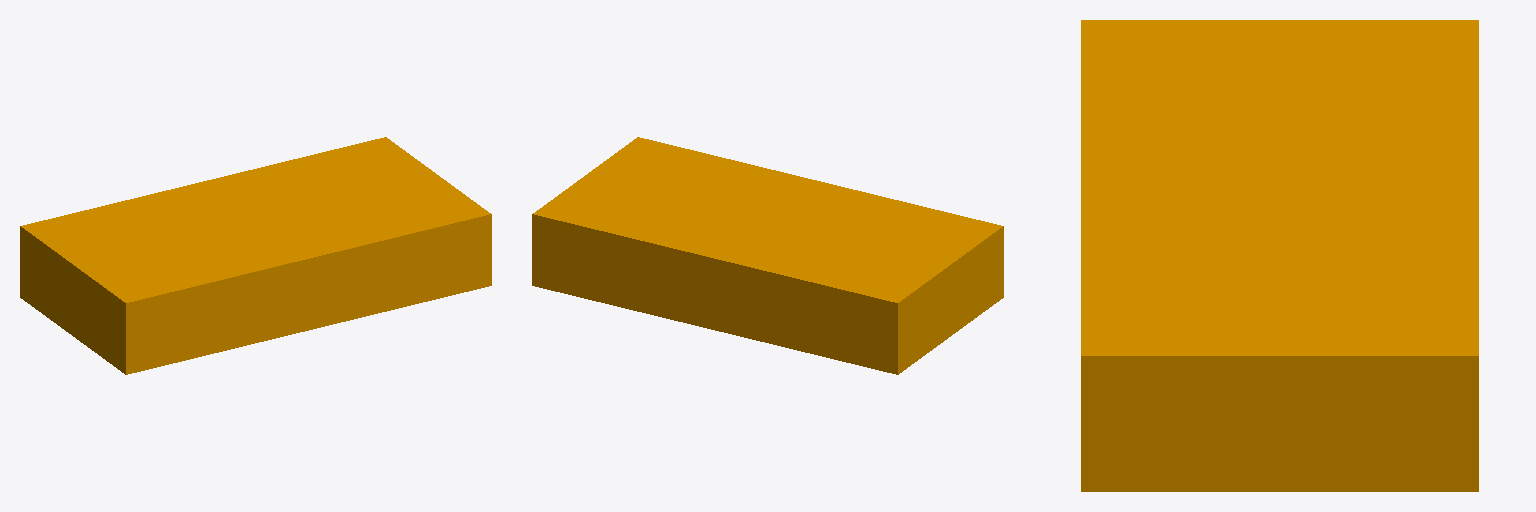
robot.urdf — object:
<?xml version="0.0"?>
	<robot name="object">
		<link name="object">
			<visual>
				<origin xyz="0 0 0"/>
				<geometry>
					<mesh filename="sofa_box.obj"/>
				</geometry>
			</visual>
			<inertial>
				<mass value="15.000"/>
			</inertial>
			<collision>
				<origin xyz="0 0 0"/>
				<geometry>
					<mesh filename="sofa_box.obj"/>
				</geometry>
			</collision>
		</link>

	</robot>

--- Facts derived from the render (not from the file) ---
Views: 3 orthographic renders of the robot side by side, from view 1: azimuth 30°, elevation 25°; view 2: azimuth 150°, elevation 25°; view 3: azimuth 270°, elevation 25°.
Model object with 1 links and 0 joints (none), rooted at object, posed all joints at 0.
Links seen in each view (by area): view 1: object; view 2: object; view 3: object.
Boxes of the visible links, left/top/right/bottom form: object: left=20, top=137, right=491, bottom=374; object: left=532, top=137, right=1003, bottom=374; object: left=1081, top=20, right=1478, bottom=491.
Bounding box of the posed robot: 1.6 × 0.8 × 0.3 m (x, y, z).
Meshes: 1 distinct files referenced, 1 mesh visuals loaded (1 OBJ).